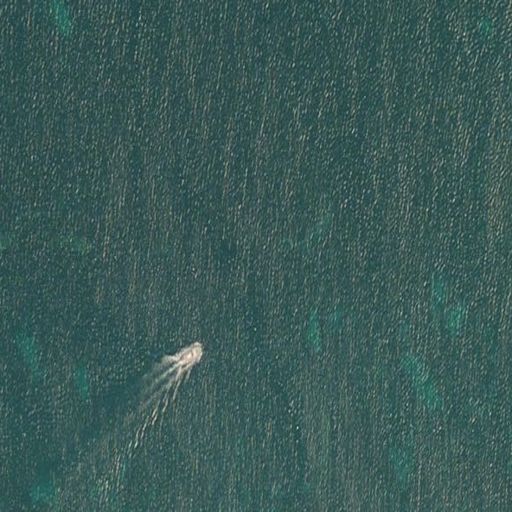ship: (167, 343, 202, 377)
